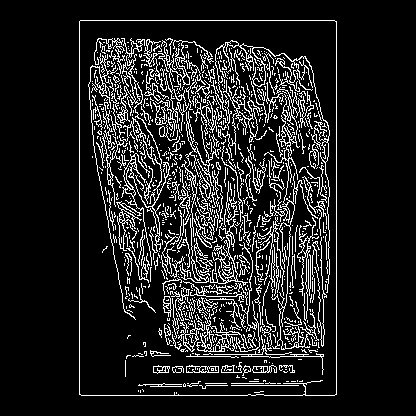buddha-sitting: (92, 182, 206, 201)
